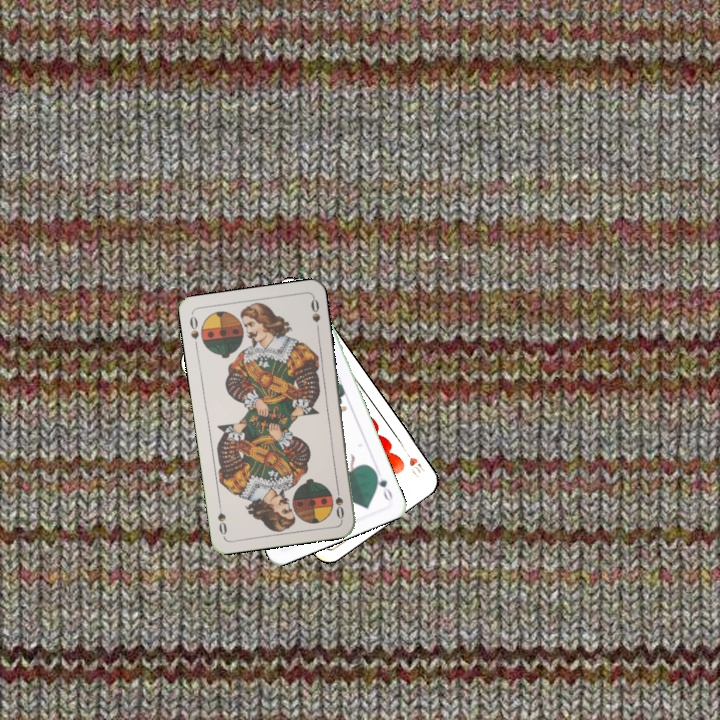GO: (370, 466, 395, 504)
H10: (399, 444, 428, 481)
SO: (331, 481, 347, 522), (186, 312, 201, 351)
